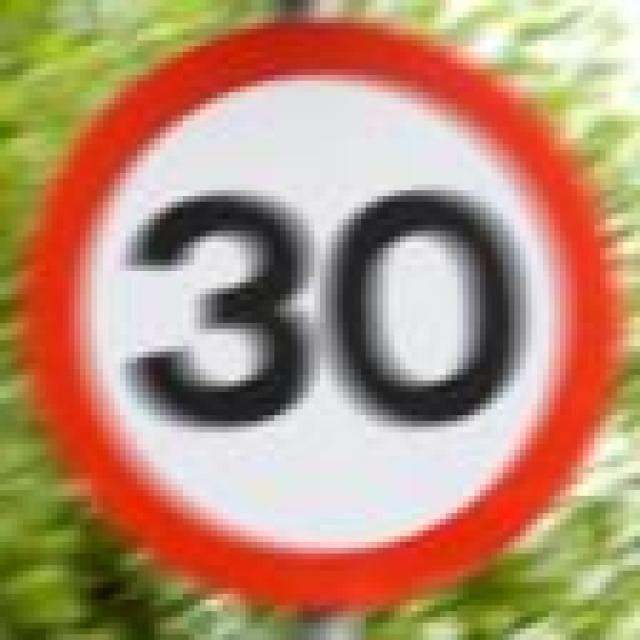speed_limit_30: (34, 12, 623, 611)
